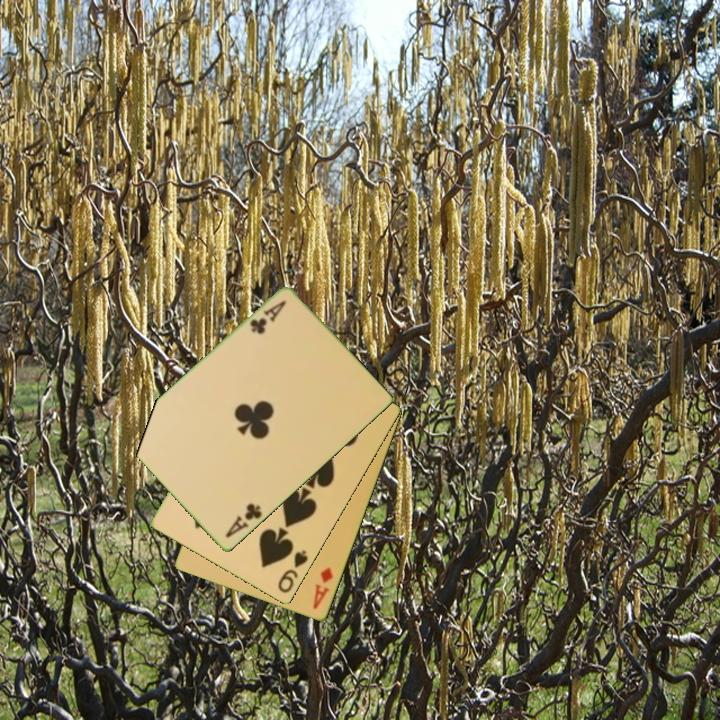9s: (274, 547, 311, 596)
Ac: (222, 500, 265, 541), (246, 297, 289, 338)
Ad: (309, 564, 336, 612)
